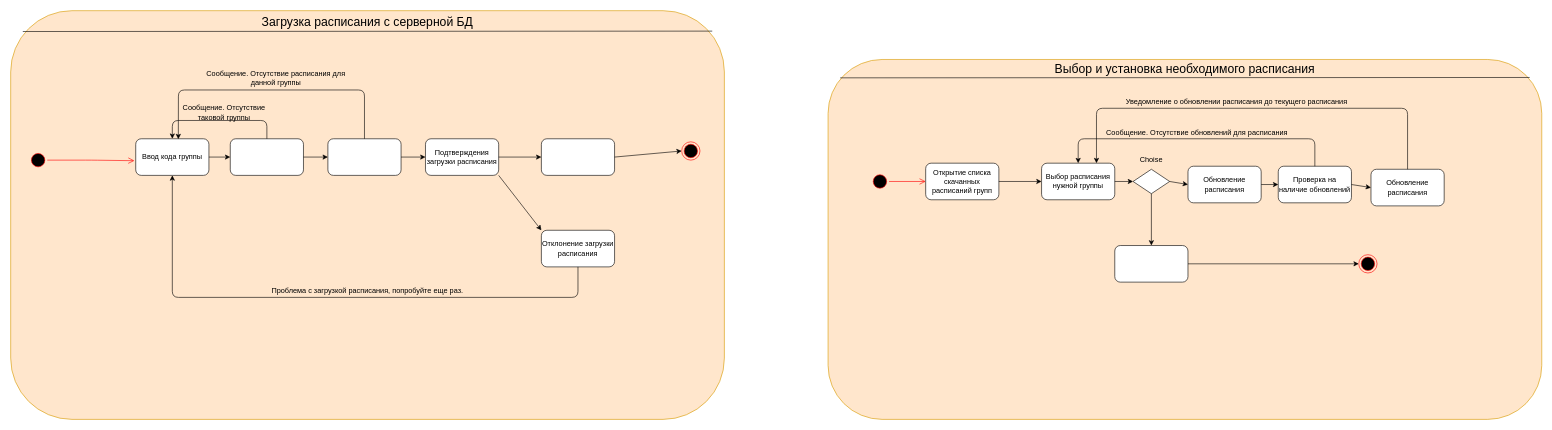
Image size: 1552x430. Some labels were removed from this diagram. The shapes that lost their labels are listed below. From the top down, each one's centre as x and y in pixels, then its label:
the point at 266,156: Ожидание проверки на наличие группы
the point at 364,156: Проверка на наличие расписания
the point at 578,156: Загрузка текущего расписания
the point at 1151,263: Установка расписания на панели "Расписание"
